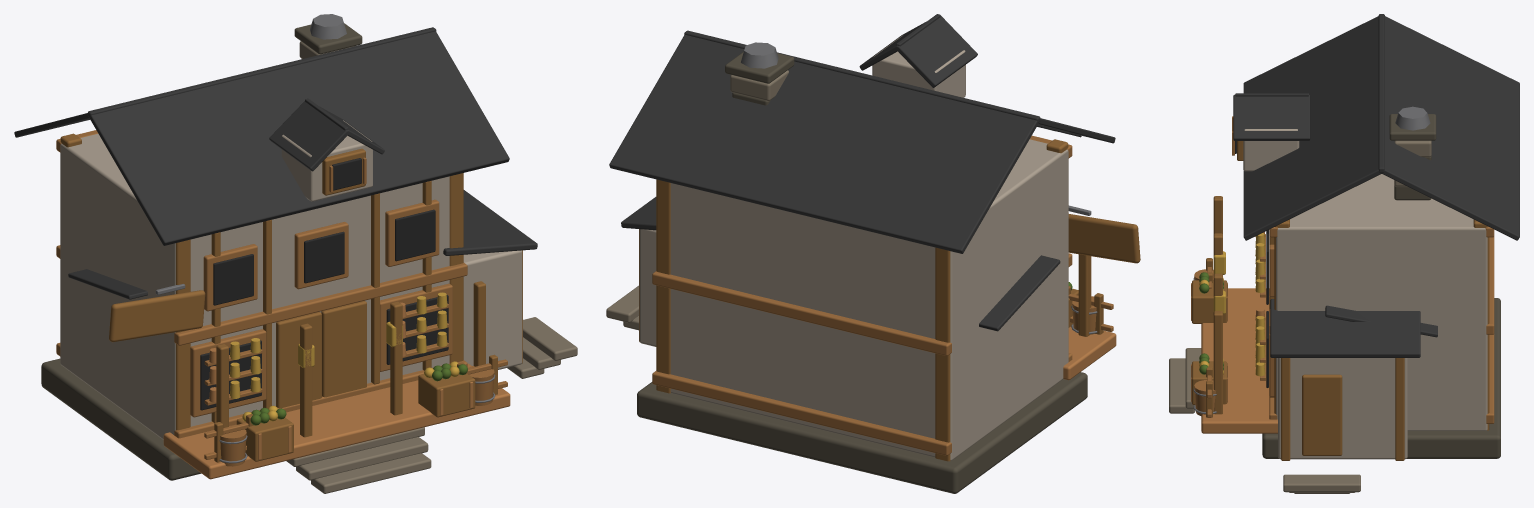
The model's file is general-store.glb.
3 views of the same model, side by side, from view 1: azimuth 30°, elevation 25°; view 2: azimuth 150°, elevation 25°; view 3: azimuth 270°, elevation 25° (orthographic). The views are drawn at different scales.
Parts seen in each view (by area): view 1: general-store-farm-roof-slate, general-store-farm-plaster, general-store-farm-wood-dark, general-store-farm-wood, general-store-farm-wood-light, general-store-farm-window, general-store-farm-stone, general-store-farm-stone-dark, general-store-farm-gold, general-store-farm-metal, general-store-farm-leaf; view 2: general-store-farm-plaster, general-store-farm-roof-slate, general-store-farm-stone-dark, general-store-farm-wood-dark, general-store-farm-wood, general-store-farm-stone, general-store-farm-wood-light, general-store-farm-metal; view 3: general-store-farm-roof-slate, general-store-farm-plaster, general-store-farm-wood-dark, general-store-farm-wood-light, general-store-farm-stone-dark, general-store-farm-stone, general-store-farm-wood, general-store-farm-gold, general-store-farm-metal, general-store-farm-window.
Part boxes in pixels (bbox=[...]): general-store-farm-roof-slate: bbox=[14, 27, 537, 299]; general-store-farm-plaster: bbox=[60, 120, 522, 439]; general-store-farm-wood-dark: bbox=[60, 133, 522, 462]; general-store-farm-wood: bbox=[56, 130, 507, 466]; general-store-farm-wood-light: bbox=[163, 302, 510, 479]; general-store-farm-window: bbox=[200, 158, 448, 410]; general-store-farm-stone: bbox=[286, 41, 577, 493]; general-store-farm-stone-dark: bbox=[41, 23, 362, 480]; general-store-farm-gold: bbox=[230, 292, 459, 421]; general-store-farm-metal: bbox=[155, 14, 495, 463]; general-store-farm-leaf: bbox=[250, 363, 467, 425]; general-store-farm-plaster: bbox=[639, 35, 1068, 460]; general-store-farm-roof-slate: bbox=[609, 14, 1115, 331]; general-store-farm-stone-dark: bbox=[637, 52, 1087, 493]; general-store-farm-wood-dark: bbox=[639, 139, 1140, 461]; general-store-farm-wood: bbox=[652, 135, 1113, 455]; general-store-farm-stone: bbox=[606, 70, 788, 330]; general-store-farm-wood-light: bbox=[1063, 326, 1116, 380]; general-store-farm-metal: bbox=[741, 42, 1097, 334]; general-store-farm-roof-slate: bbox=[1233, 14, 1519, 357]; general-store-farm-plaster: bbox=[1243, 129, 1487, 459]; general-store-farm-wood-dark: bbox=[1192, 141, 1489, 460]; general-store-farm-wood-light: bbox=[1191, 232, 1277, 433]; general-store-farm-stone-dark: bbox=[1262, 114, 1500, 458]; general-store-farm-stone: bbox=[1169, 140, 1431, 493]; general-store-farm-wood: bbox=[1194, 116, 1494, 423]; general-store-farm-gold: bbox=[1199, 233, 1265, 376]; general-store-farm-metal: bbox=[1193, 106, 1430, 413]; general-store-farm-window: bbox=[1235, 141, 1268, 387].
Bounding box in the file's own units: 9.67 × 6.69 × 6.76.
